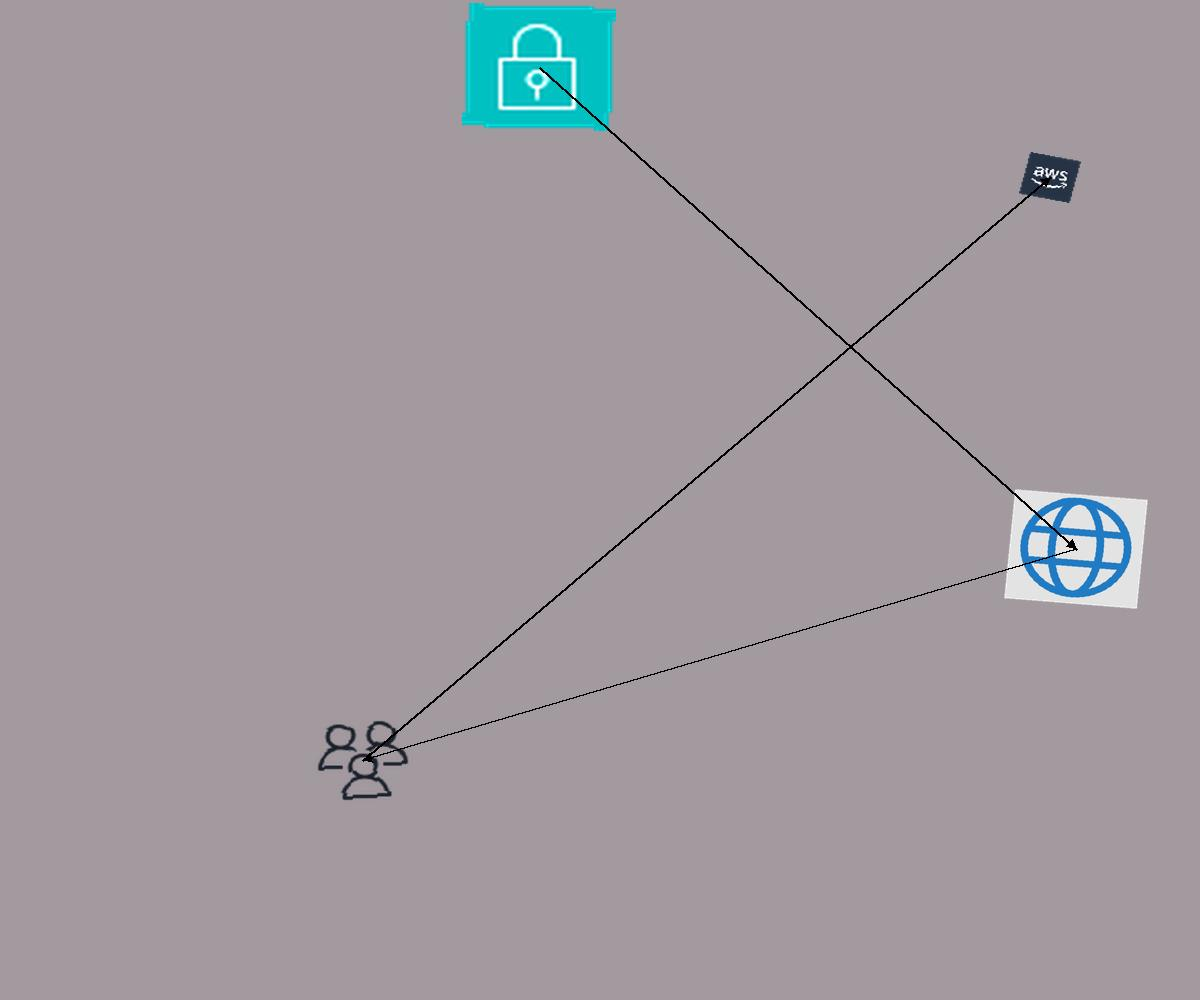AWS-Cloud-logo: (1019, 152, 1081, 203)
AWS-Private-subnet: (462, 3, 616, 131)
AWS-Res_Users: (310, 716, 416, 805)
Azure_http: (1004, 489, 1148, 609)
